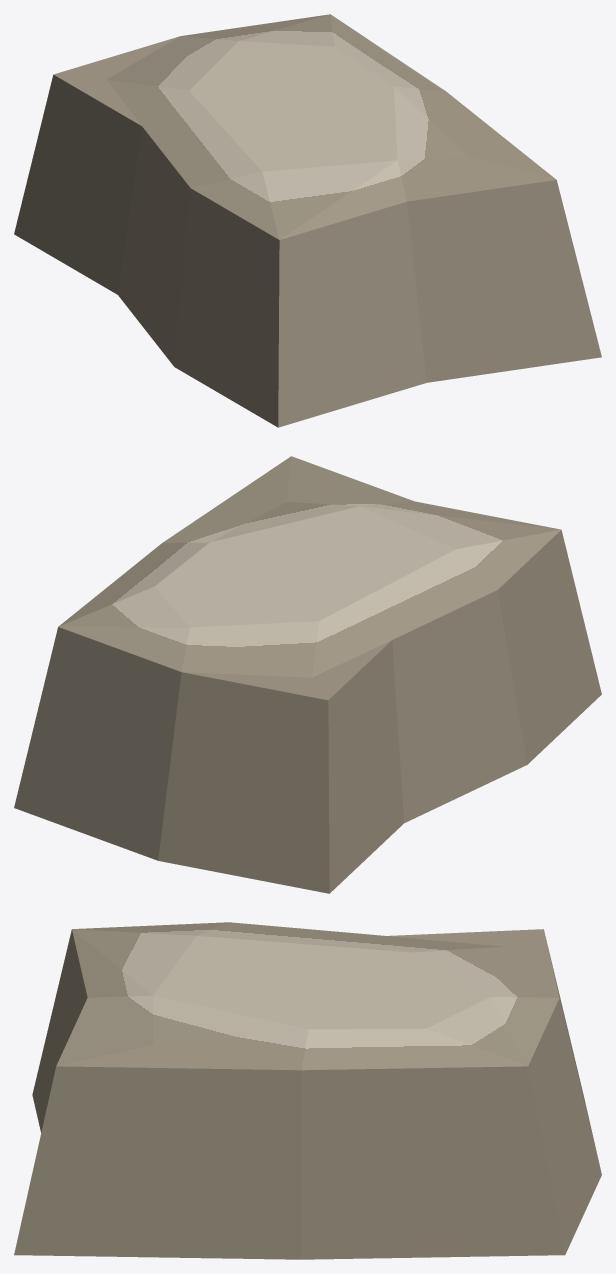
File: Rock_08.fbx
3 renders of one model, top to bottom at view 1: azimuth 30°, elevation 25°; view 2: azimuth 150°, elevation 25°; view 3: azimuth 270°, elevation 25°, orthographic. The views are drawn at different scales.
Parts seen in each view (by area): view 1: Rock_08; view 2: Rock_08; view 3: Rock_08.
Boxes of the visible parts, x1=… form: Rock_08: x1=14, y1=14, x2=601, y2=427; Rock_08: x1=14, y1=456, x2=601, y2=893; Rock_08: x1=14, y1=922, x2=601, y2=1259.
Size of the model in its own units: 42.01 by 21.73 by 60.38.
1 material, 1 textured.
